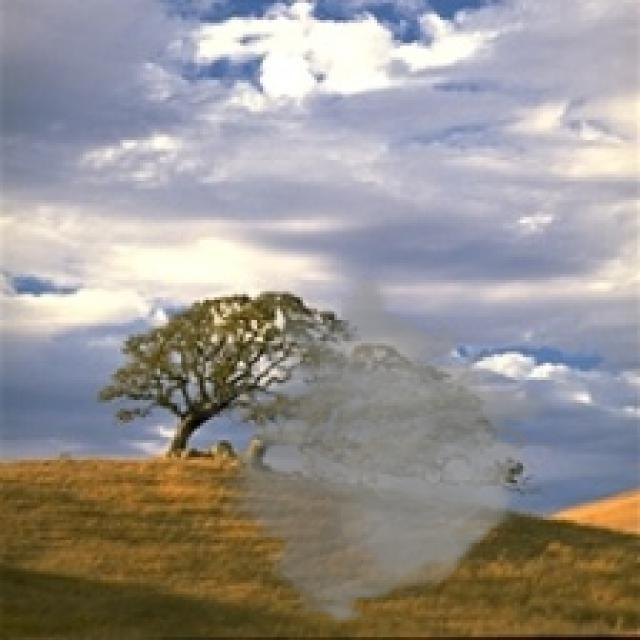Smoke: (191, 274, 563, 626)
